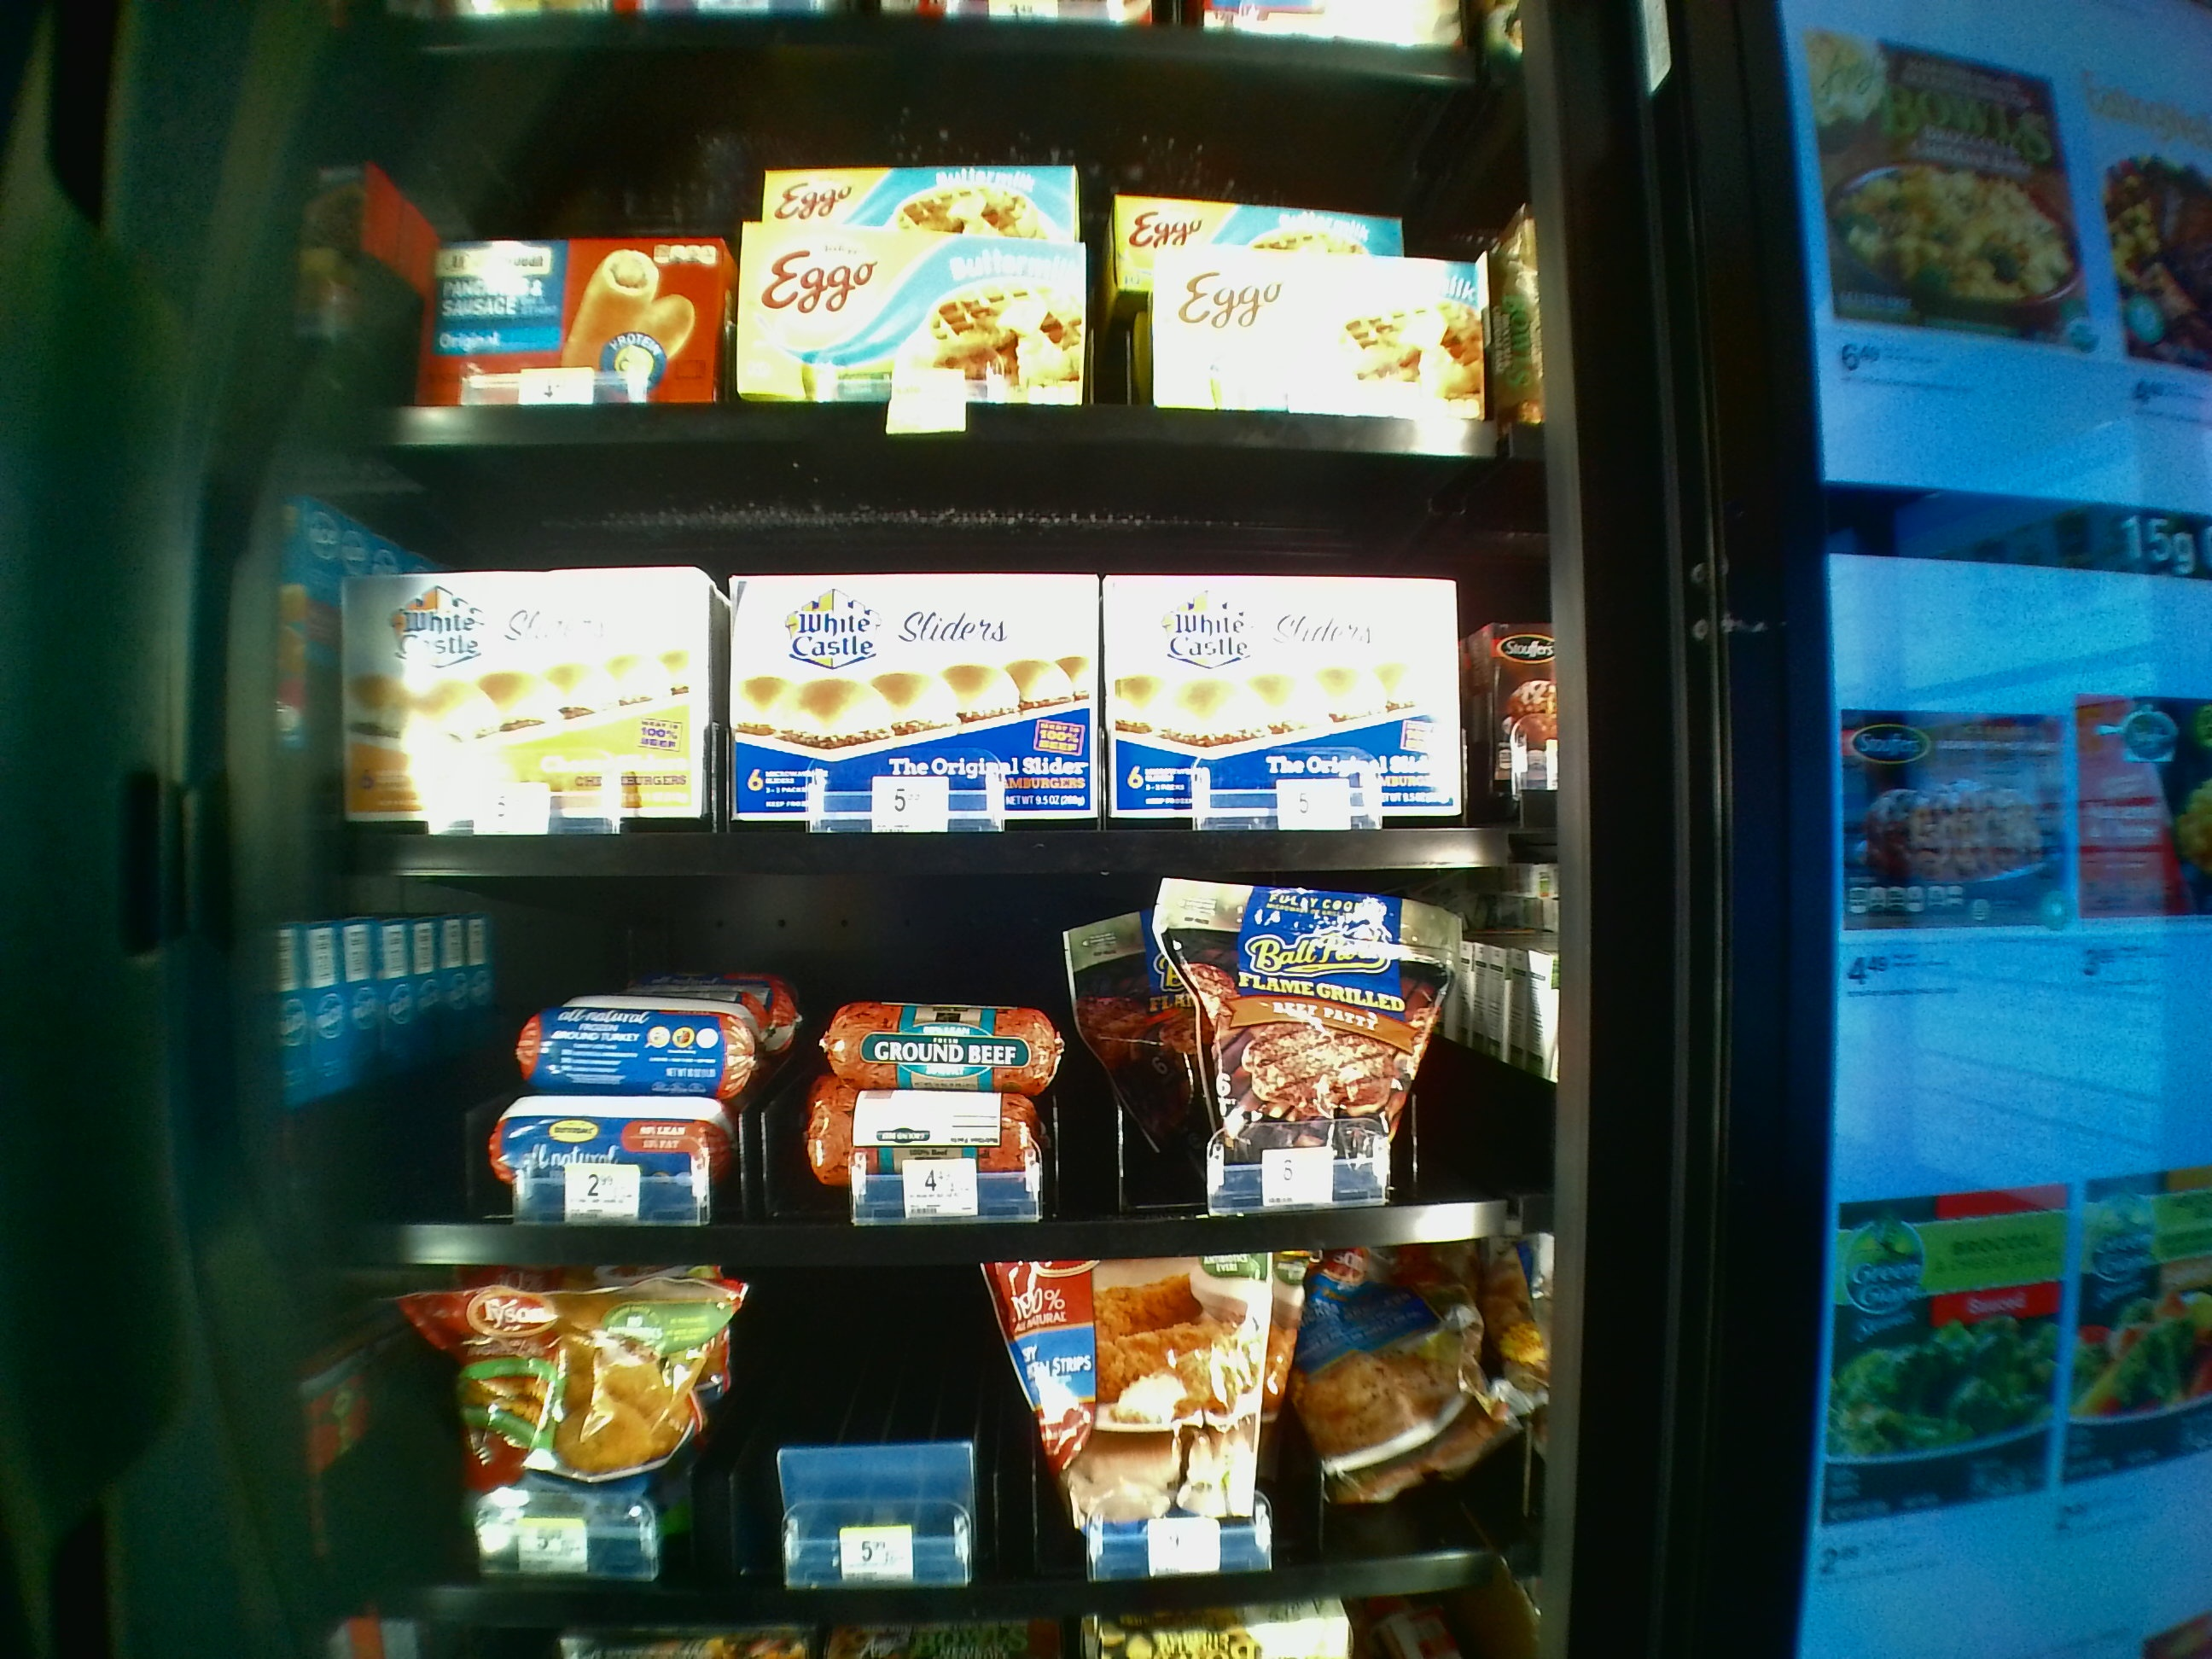shelf: (336, 453, 1550, 873), (331, 887, 1545, 1258)
